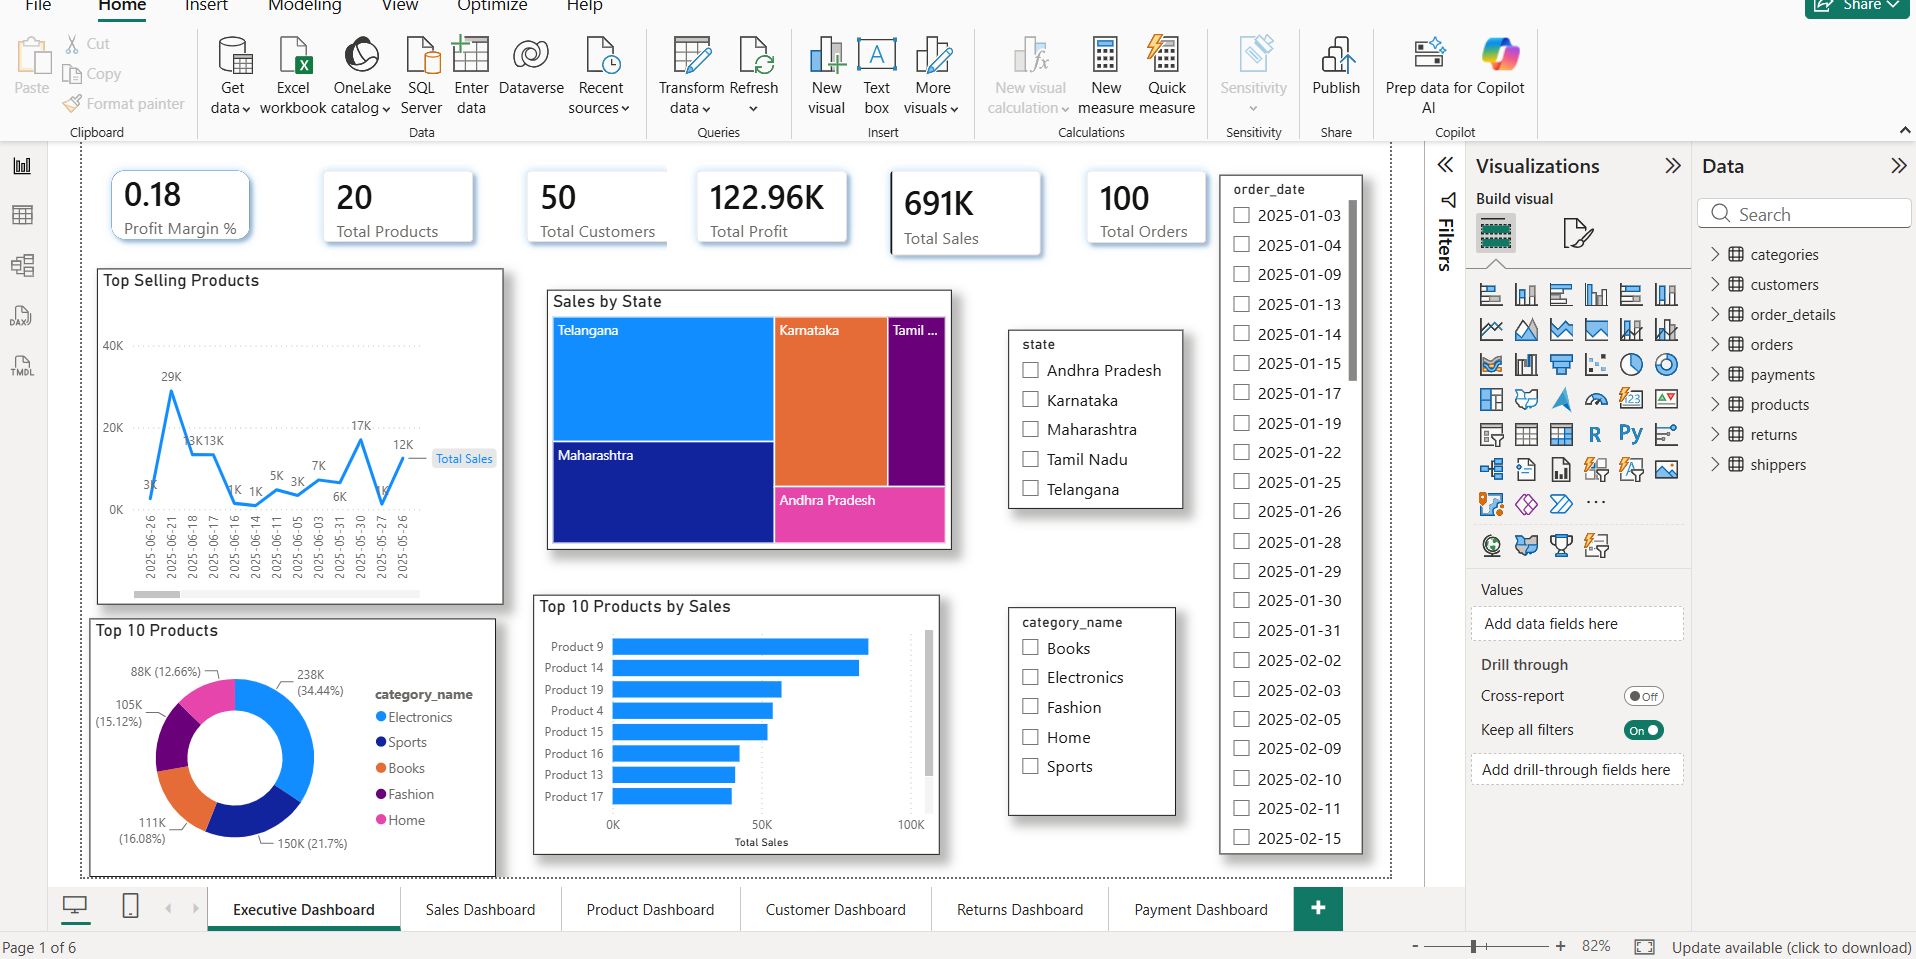

Layout of this report page (visuals, bound fields, positions):
{"tool":"powerbi","page":{"name":"Executive Dashboard","canvas":[1280,720],"ordinal":0},"visuals":[{"type":"cardVisual","fields":{"Data":["categories.Profit Margin %"]},"box":[0,0,193,125],"z":0},{"type":"cardVisual","fields":{"Data":["categories.Total Customers"]},"box":[406.2,0,199,129],"z":1000},{"type":"cardVisual","fields":{"Data":["categories.Total Orders"]},"box":[953.4,0,175.7,129.4],"z":2000},{"type":"cardVisual","fields":{"Data":["categories.Total Products"]},"box":[206.7,0,205.4,128.4],"z":3000},{"type":"cardVisual","fields":{"Data":["categories.Total Profit"]},"box":[572.2,0,205.8,129],"z":4000},{"type":"cardVisual","fields":{"Data":["categories.Total Sales"]},"box":[761.6,0,205.8,141.3],"z":5000},{"type":"lineChart","title":"Top Selling Products","fields":{"Category":["orders.order_date"],"Y":["categories.Total Sales"]},"box":[14.7,124.7,397.4,328.9],"z":6000},{"type":"donutChart","title":"Top 10 Products","fields":{"Category":["categories.category_name"],"Y":["categories.Total Sales"]},"box":[7.3,467.1,397.4,253.1],"z":7000},{"type":"barChart","title":"Top 10 Products by Sales","fields":{"Category":["products.product_name"],"Y":["categories.Total Sales"]},"box":[441.4,443.9,397.4,254.3],"z":8000},{"type":"treemap","title":"Sales by State","fields":{"Group":["customers.state"],"Values":["categories.Total Sales"]},"box":[454.9,145.5,396.2,254.3],"z":9000},{"type":"slicer","fields":{"Values":["orders.order_date"]},"box":[1112.8,32.7,140.3,664.7],"z":10000},{"type":"slicer","fields":{"Values":["customers.state"]},"box":[906.1,184.6,171.2,174.9],"z":11000},{"type":"slicer","fields":{"Values":["categories.category_name"]},"box":[906.1,456.1,163.9,204.2],"z":12000}]}

Visuals, with their boxes on the page's 1280x720 design canvas (x1, y1, x2, y2). These are canvas units, not pixel positions in the 1916x959 screenshot, which may show the page scaled, cropped or inside an application window:
cardVisual - categories.Profit Margin %: 0,0,193,125
cardVisual - categories.Total Customers: 406,0,605,129
cardVisual - categories.Total Orders: 953,0,1129,129
cardVisual - categories.Total Products: 207,0,412,128
cardVisual - categories.Total Profit: 572,0,778,129
cardVisual - categories.Total Sales: 762,0,967,141
"Top Selling Products" lineChart: 15,125,412,454
"Top 10 Products" donutChart: 7,467,405,720
"Top 10 Products by Sales" barChart: 441,444,839,698
"Sales by State" treemap: 455,146,851,400
slicer - orders.order_date: 1113,33,1253,697
slicer - customers.state: 906,185,1077,360
slicer - categories.category_name: 906,456,1070,660
